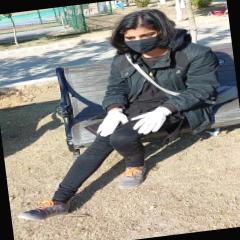gloved: (131, 106, 172, 136), (94, 106, 128, 136)
